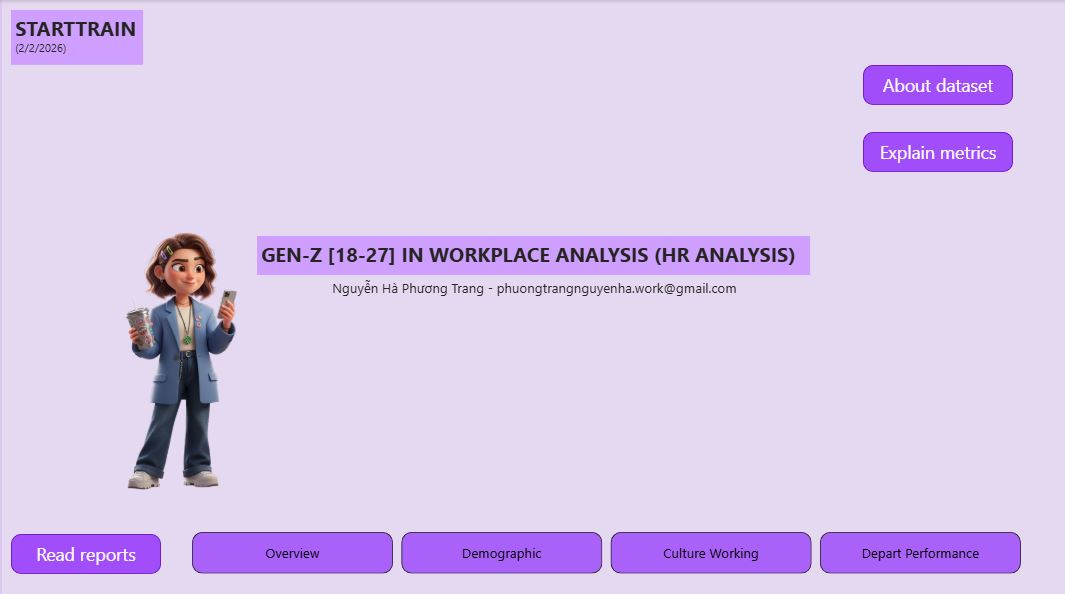

The dashboard page shown, as its layout file describes it:
{"tool":"powerbi","page":{"name":"Homepage","canvas":[1280,720],"ordinal":0},"visuals":[{"type":"textbox","box":[307.4,284,666.4,46.7],"z":0},{"type":"shape","box":[1036.7,78.3,180.6,48.2],"z":1000},{"type":"shape","box":[10.8,642.9,180.6,48.2],"z":2000},{"type":"shape","box":[1036.7,158.9,180.6,48.2],"z":3000},{"type":"pageNavigator","box":[228.7,640.6,1000.9,50.4],"z":4000},{"type":"textbox","box":[308.2,331.1,665.8,37.3],"z":5000},{"type":"image","box":[10.8,268.5,414.2,326.3],"z":6000},{"type":"textbox","box":[10.8,12,158.9,66.2],"z":7000}]}

Visuals, with their boxes in screenshot pixels (x1, y1, x2, y2), scaled from the page's 1280x720 canvas onto the 1065x594 screenshot:
textbox: [x1=256, y1=234, x2=810, y2=273]
shape: [x1=863, y1=65, x2=1013, y2=104]
shape: [x1=9, y1=530, x2=159, y2=570]
shape: [x1=863, y1=131, x2=1013, y2=171]
pageNavigator: [x1=190, y1=528, x2=1023, y2=570]
textbox: [x1=256, y1=273, x2=810, y2=304]
image: [x1=9, y1=222, x2=354, y2=491]
textbox: [x1=9, y1=10, x2=141, y2=65]
